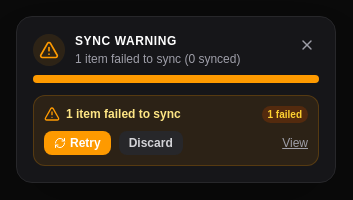
OfflineSyncProgressBar Component › supports retry action to re-attempt syncing failed items
Expected: the element with test id "sync-failed-warning" shows "1 item failed to sync", [33,95,319,166]
# Click Retry
What coordinates should you click on to do the following:
click the button with test id "retry-sync-btn"
I would click on:
 (77, 143)
Its box is [44,131,111,155].
Wait 400 ms
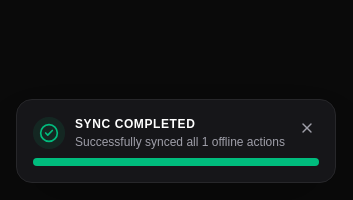
Expected: the heading "Sync Completed" is shown, [75,117,195,131]
Expected: the element with test id "sync-failed-warning" is gone
